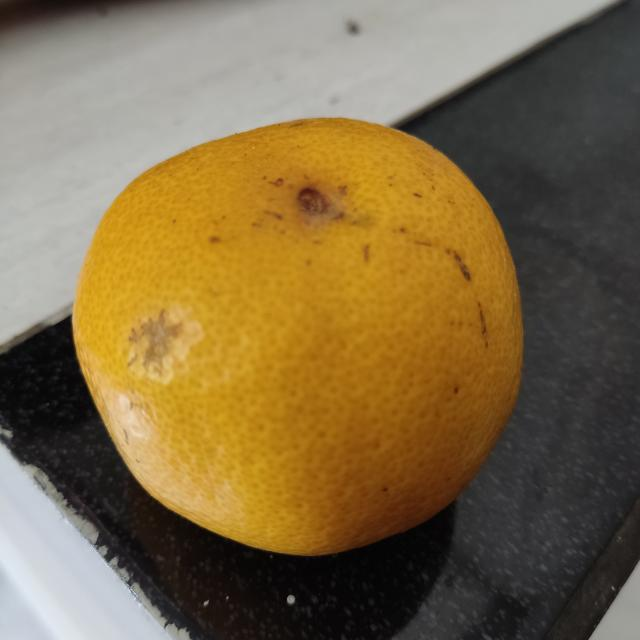orange: (73, 115, 526, 558)
